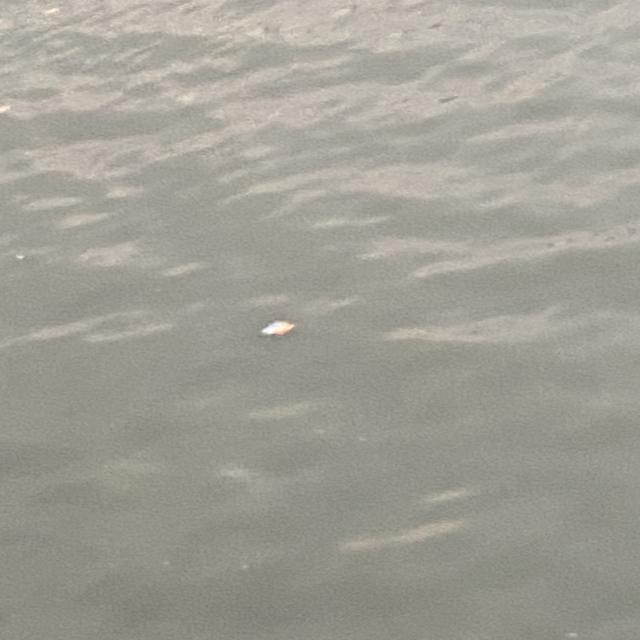Plastic: (255, 318, 302, 335)
